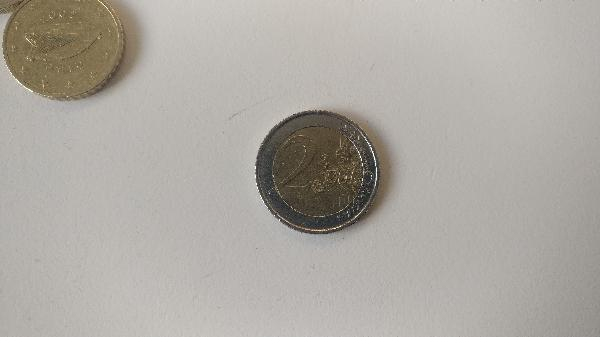Fifty Cent: (1, 1, 127, 100)
Two Euro: (252, 107, 384, 234)
